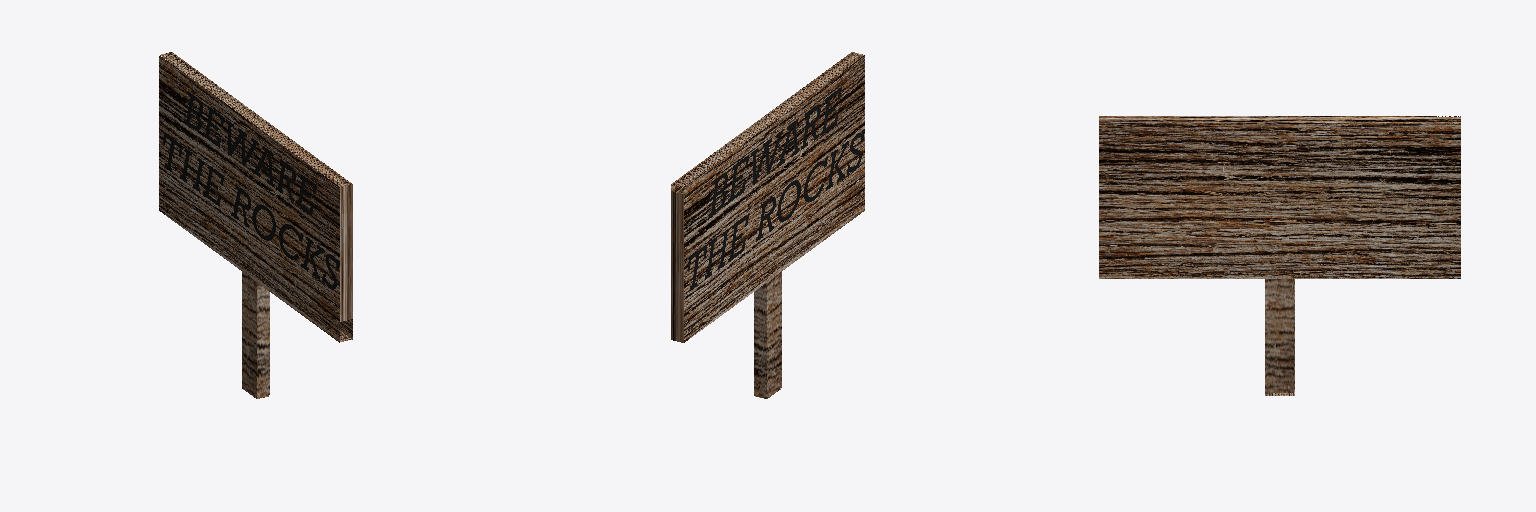
3 views of the same model, side by side, from view 1: azimuth 30°, elevation 25°; view 2: azimuth 150°, elevation 25°; view 3: azimuth 270°, elevation 25° (orthographic).
Visible parts, largest first — view 1: Cube; view 2: Cube; view 3: Cube.
Part boxes in pixels (x1,y1,x2,y2): Cube: (159, 52, 352, 398); Cube: (671, 52, 864, 398); Cube: (1099, 116, 1460, 395).
Bounding box in the file's own units: 0.1748 × 3.57 × 4.29.
1 materials, 1 textured.